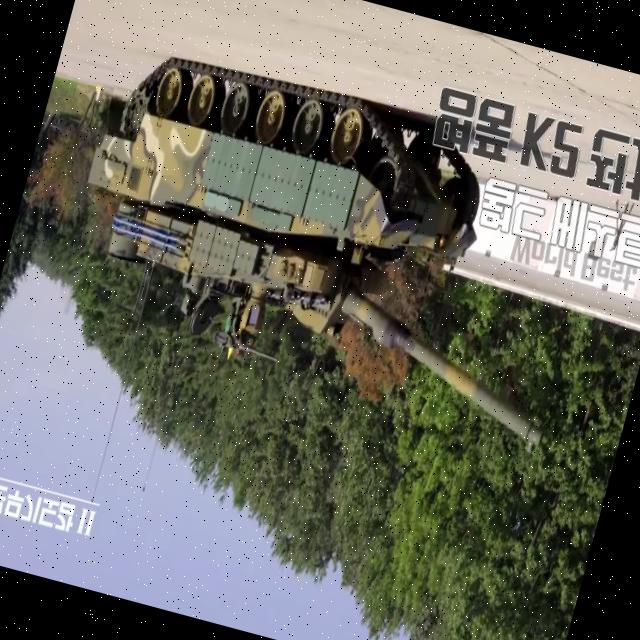korea tank: (48, 32, 617, 451)
